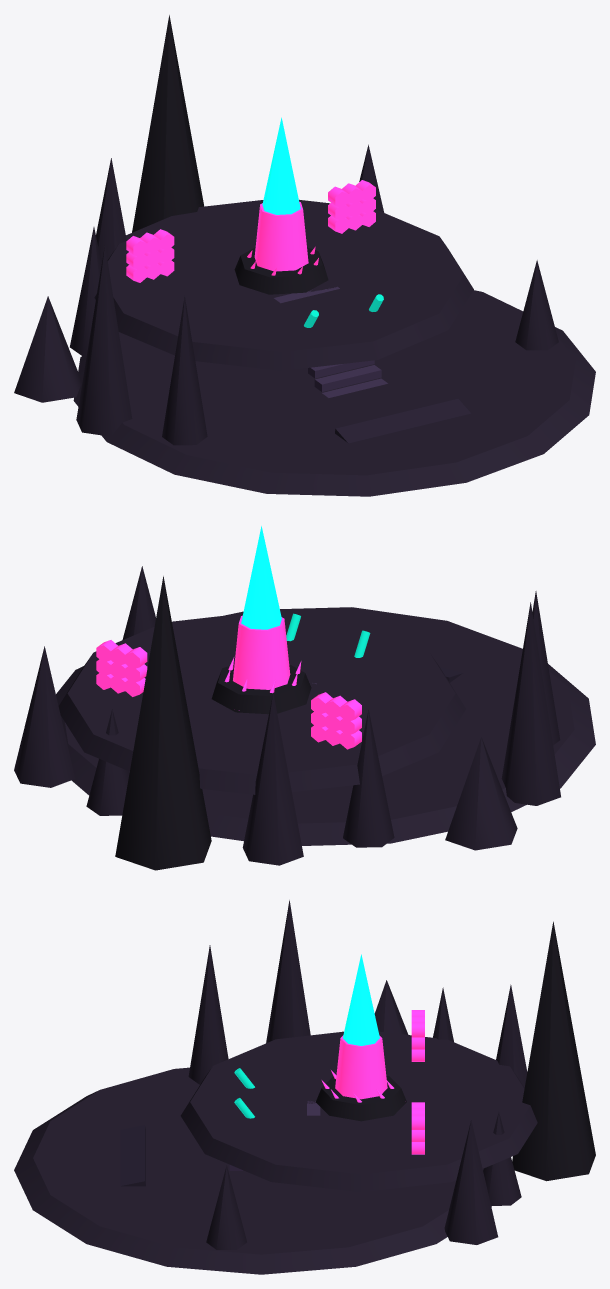
The model's file is enemy_hive_base.glb.
3 renders of one model, top to bottom at view 1: azimuth 30°, elevation 25°; view 2: azimuth 150°, elevation 25°; view 3: azimuth 270°, elevation 25°, orthographic. The views are drawn at different scales.
Parts seen in each view (by area): view 1: EnemyOutpostBase, crystalLower, hiveCore; view 2: EnemyOutpostBase, crystalLower, hiveCore; view 3: EnemyOutpostBase, crystalLower, hiveCore.
Part boxes in pixels (box(x1,y1,x2,y2)): EnemyOutpostBase: box(14, 15, 595, 496); crystalLower: box(254, 202, 308, 271); hiveCore: box(262, 117, 300, 214); EnemyOutpostBase: box(14, 566, 595, 870); crystalLower: box(233, 615, 290, 689); hiveCore: box(241, 526, 281, 629); EnemyOutpostBase: box(14, 900, 595, 1274); crystalLower: box(335, 1035, 387, 1099); hiveCore: box(343, 954, 379, 1045).
Bounding box in the file's own units: 54.64 × 29.78 × 61.15.
